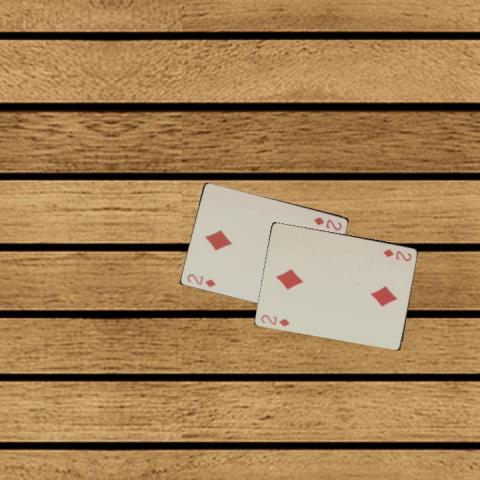2d: (184, 271, 217, 288), (312, 214, 344, 231), (258, 312, 291, 328), (381, 246, 413, 262)
